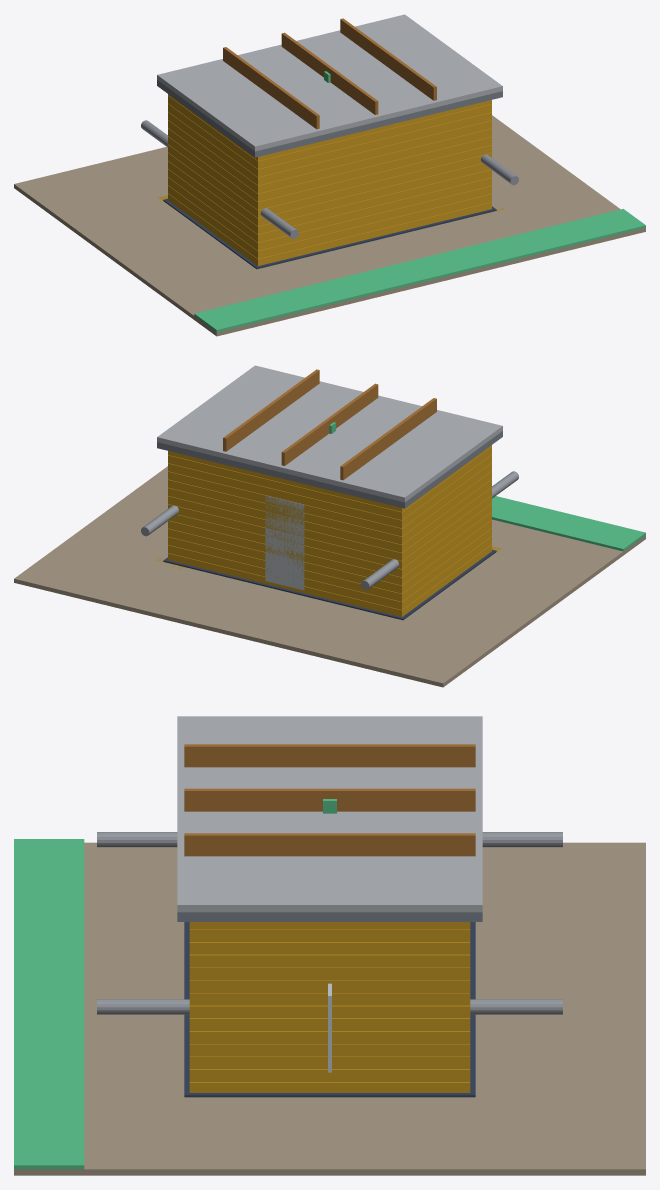
Rendered from stage_12_complete.glb.
3 views of the same model, one above another, from view 1: azimuth 30°, elevation 25°; view 2: azimuth 150°, elevation 25°; view 3: azimuth 270°, elevation 25° (orthographic). The views are drawn at different scales.
Visible parts, largest first — view 1: world; view 2: world; view 3: world.
Part boxes in pixels (box(x1,y1,x2,y2)): world: box(14, 14, 645, 336); world: box(14, 365, 645, 687); world: box(14, 716, 645, 1175).
Bounding box in the file's own units: 11 × 4.2 × 9.
